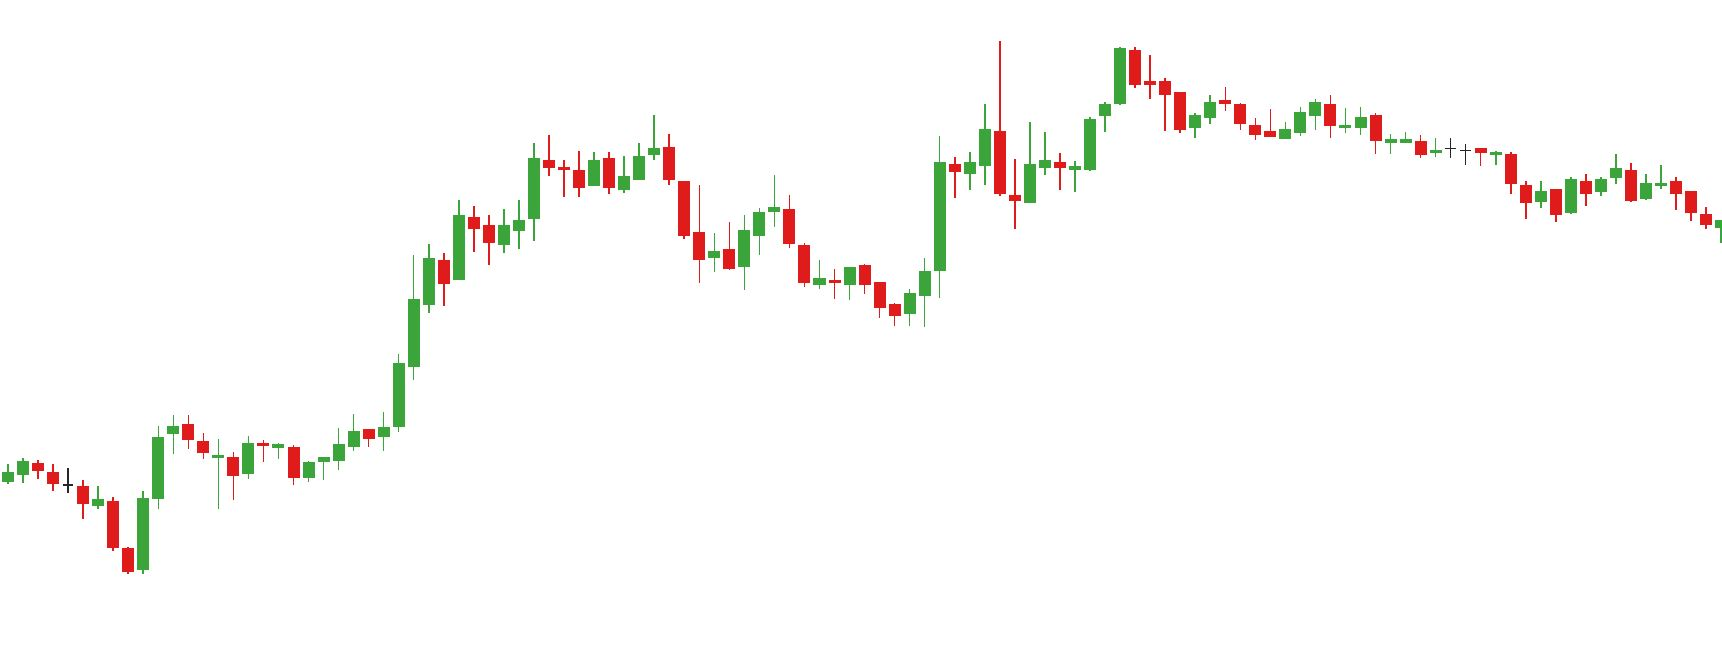sell: (529, 112, 660, 177)
